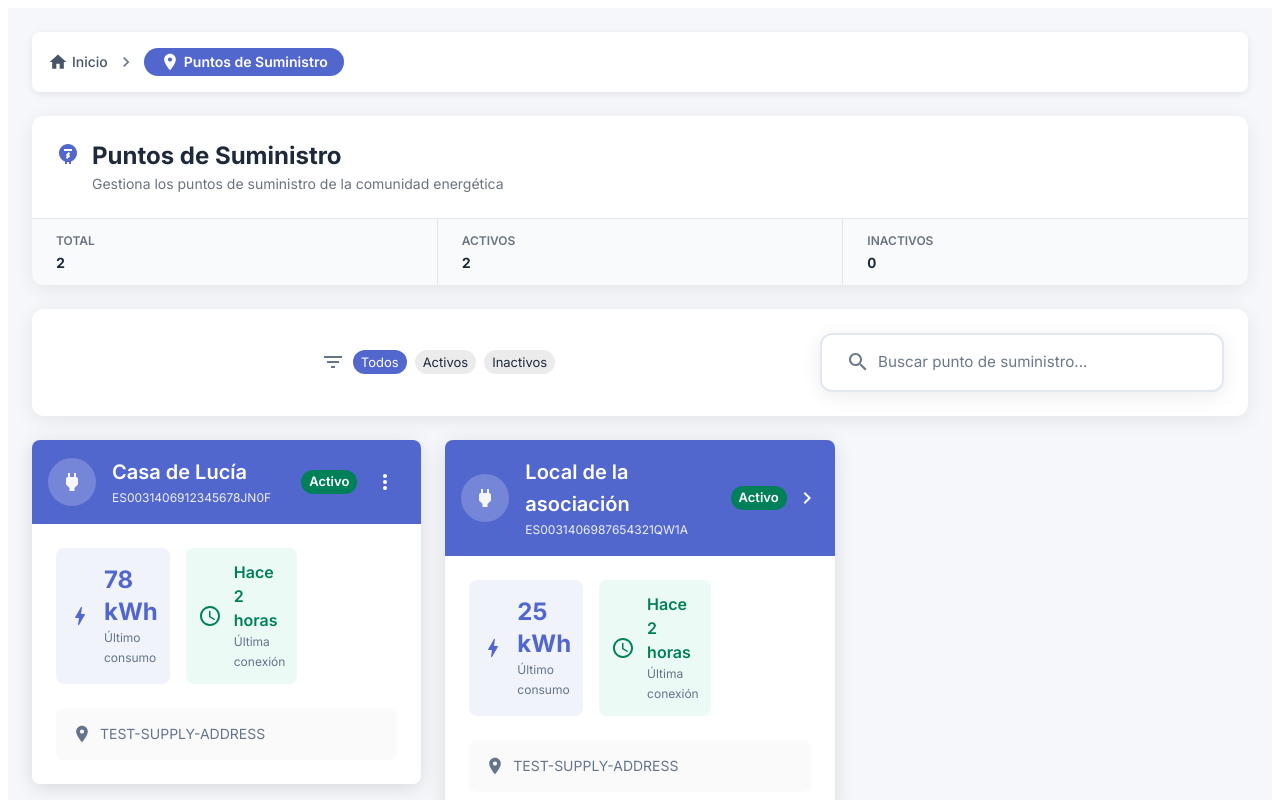
Scenario: deleting a supply from its card menu › UI-SUP-004 a 409 SUPPLY_HAS_PLANTS recommends «Deshabilitar», and the supply stays
The image size is (1280, 800).
Expected: the heading "Casa de Lucía" is shown, [112, 460, 247, 484]
What coordinates should you click on to do the following:
click the button named "Más acciones para Casa de Lucía"
I would click on:
 (385, 482)
Its box is [365, 462, 405, 502].
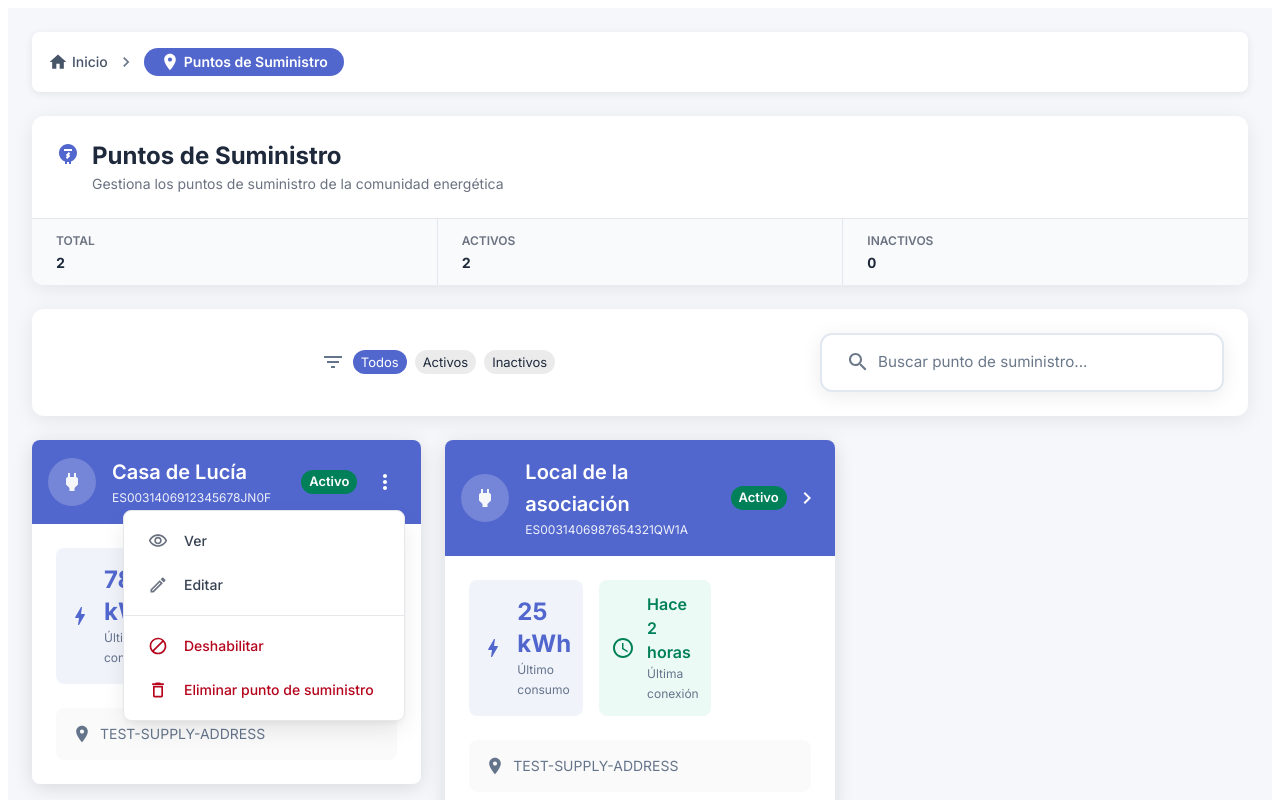
What coordinates should you click on to do the following:
click the menu item "Eliminar punto de suministro"
I would click on:
 (261, 690)
Its box is [148, 680, 374, 700].
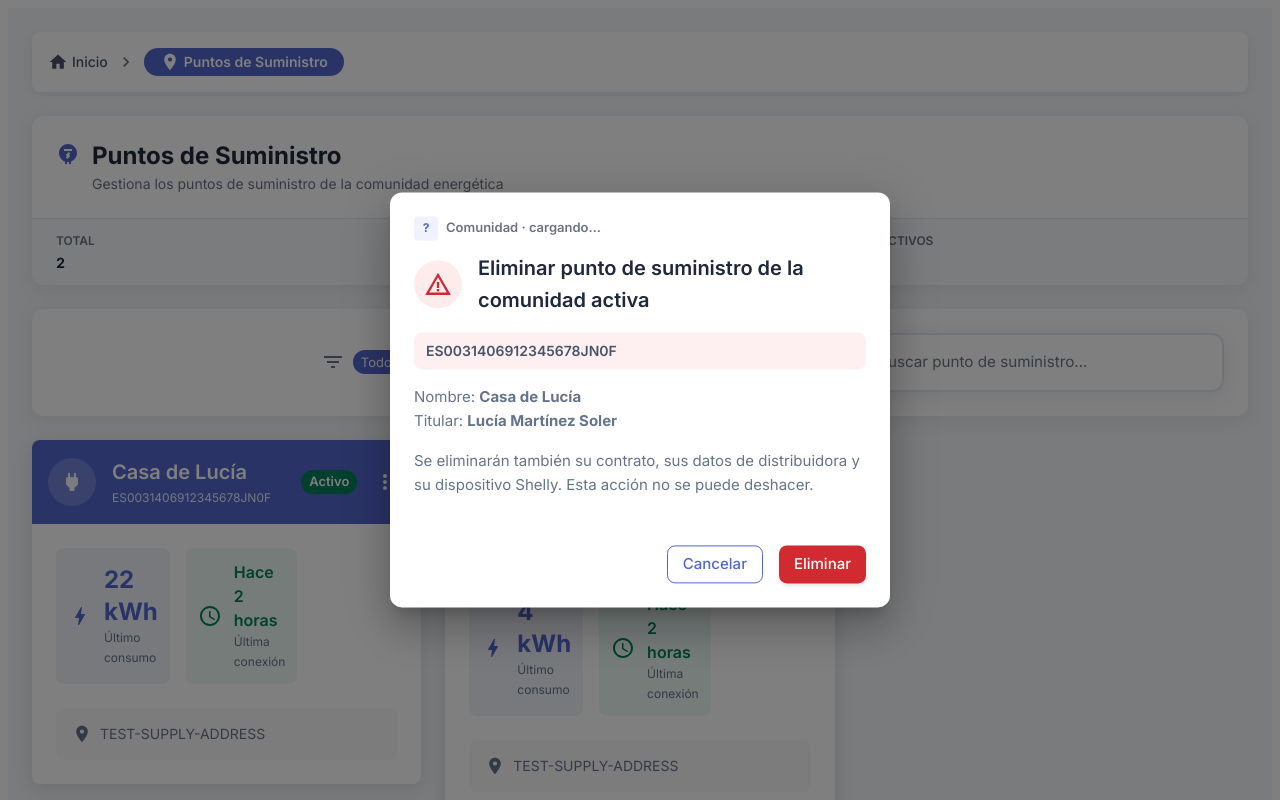
What coordinates should you click on to do the following:
click the button "Eliminar"
I would click on:
 (822, 565)
Its box is [779, 545, 866, 584].
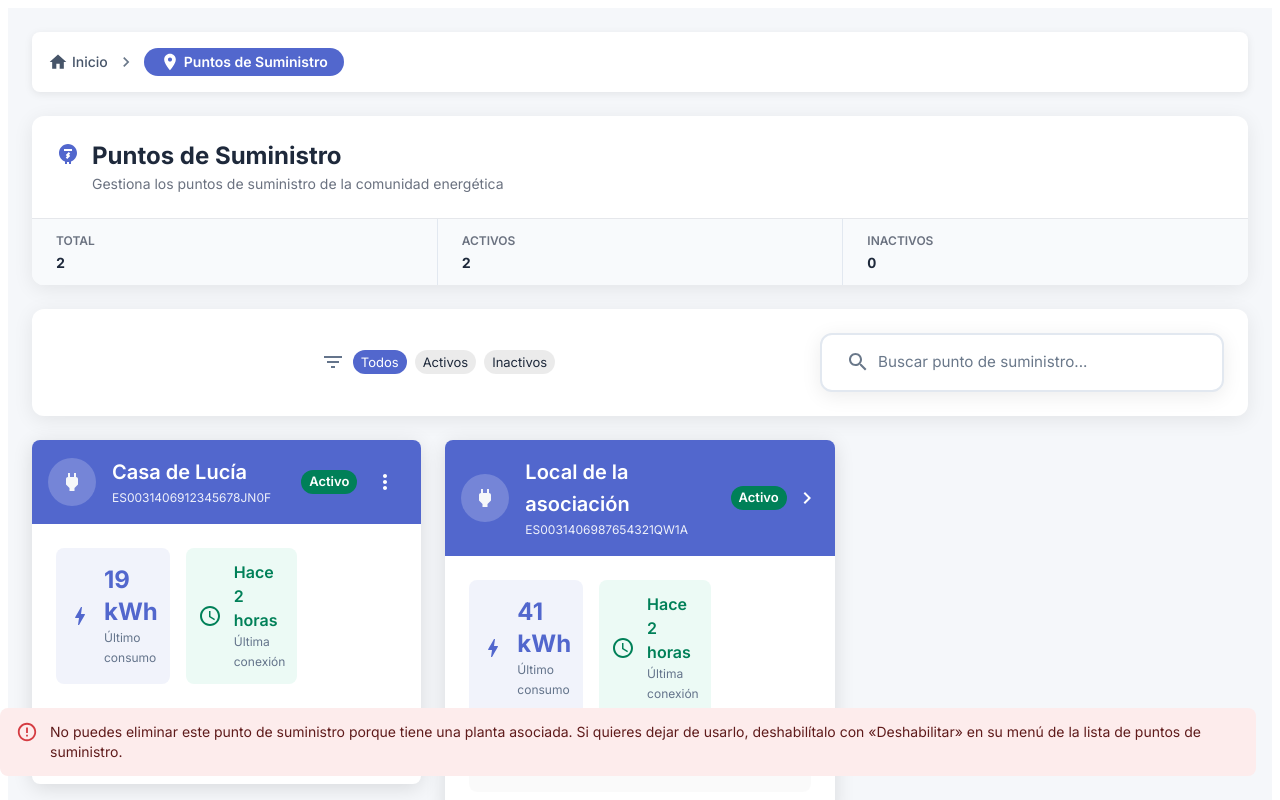
Expected: the heading "Casa de Lucía" is shown, [112, 460, 247, 484]
Expected: the text "tiene una planta asociada" shows "Si quieres dejar de usarlo, deshabilítalo con «Deshabilitar»", [50, 723, 1201, 760]
